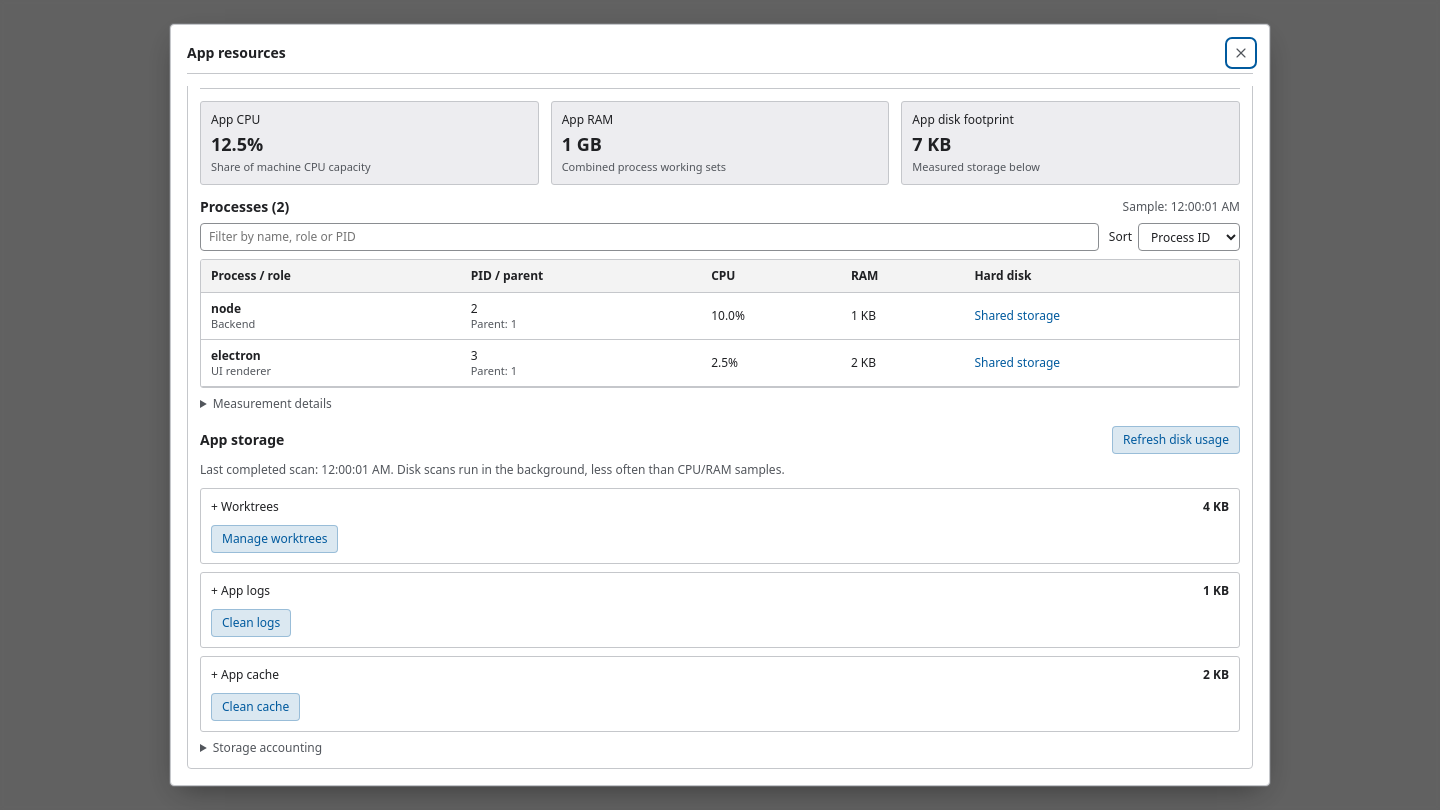
Test case: app resource panel › keeps storage actions within App categories and drive capacity only in System
The image size is (1440, 810).
(page scrolled)
Check: the button "Manage worktrees" is shown, box x1=211 y1=525 x2=338 y2=553
Check: the column heading "Hard disk" is shown, box x1=964 y1=260 x2=1239 y2=292
Click the button "Clean logs": (251, 623) x1=211 y1=609 x2=291 y2=637
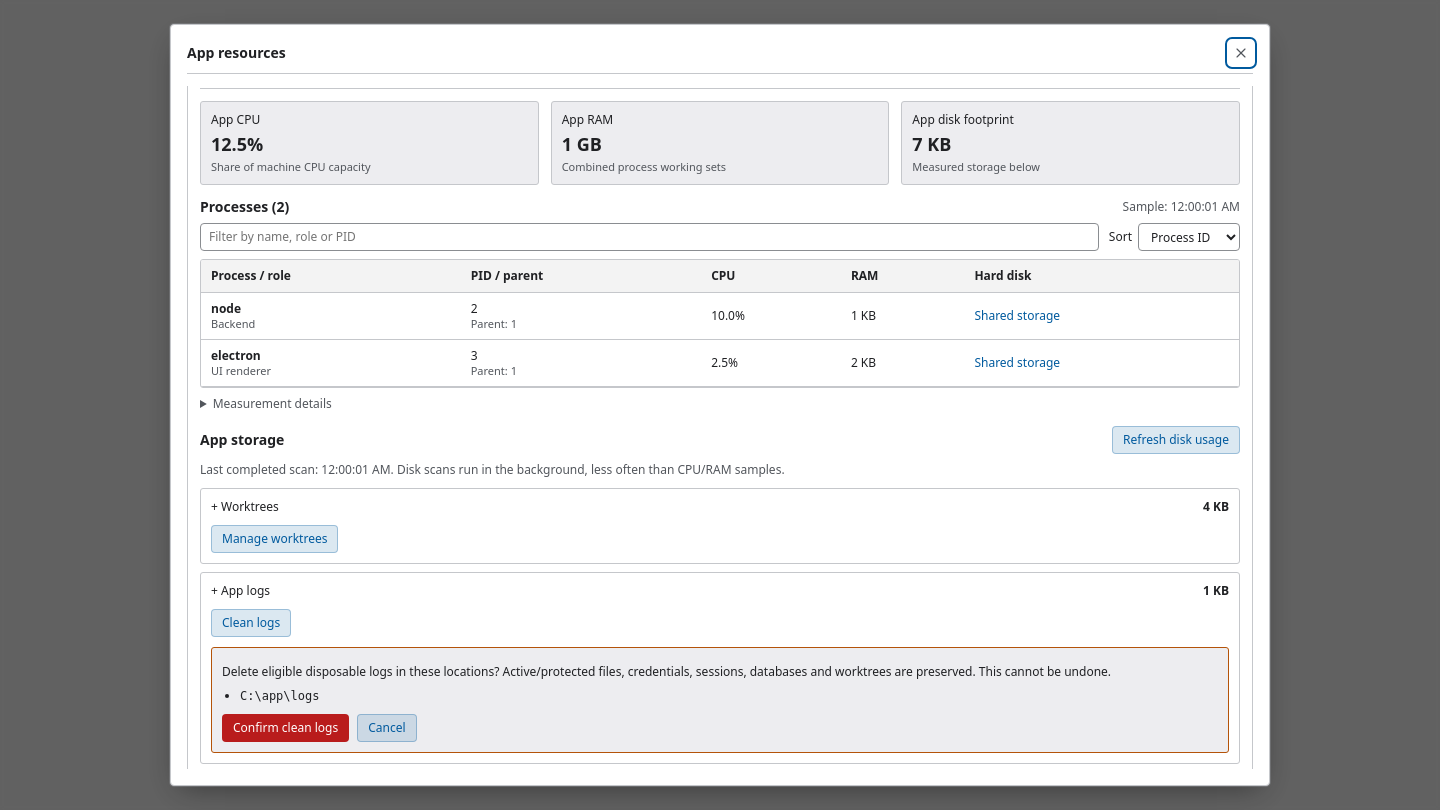
Check: the element named "Confirm logs cleanup" is shown, box x1=211 y1=647 x2=1229 y2=753
